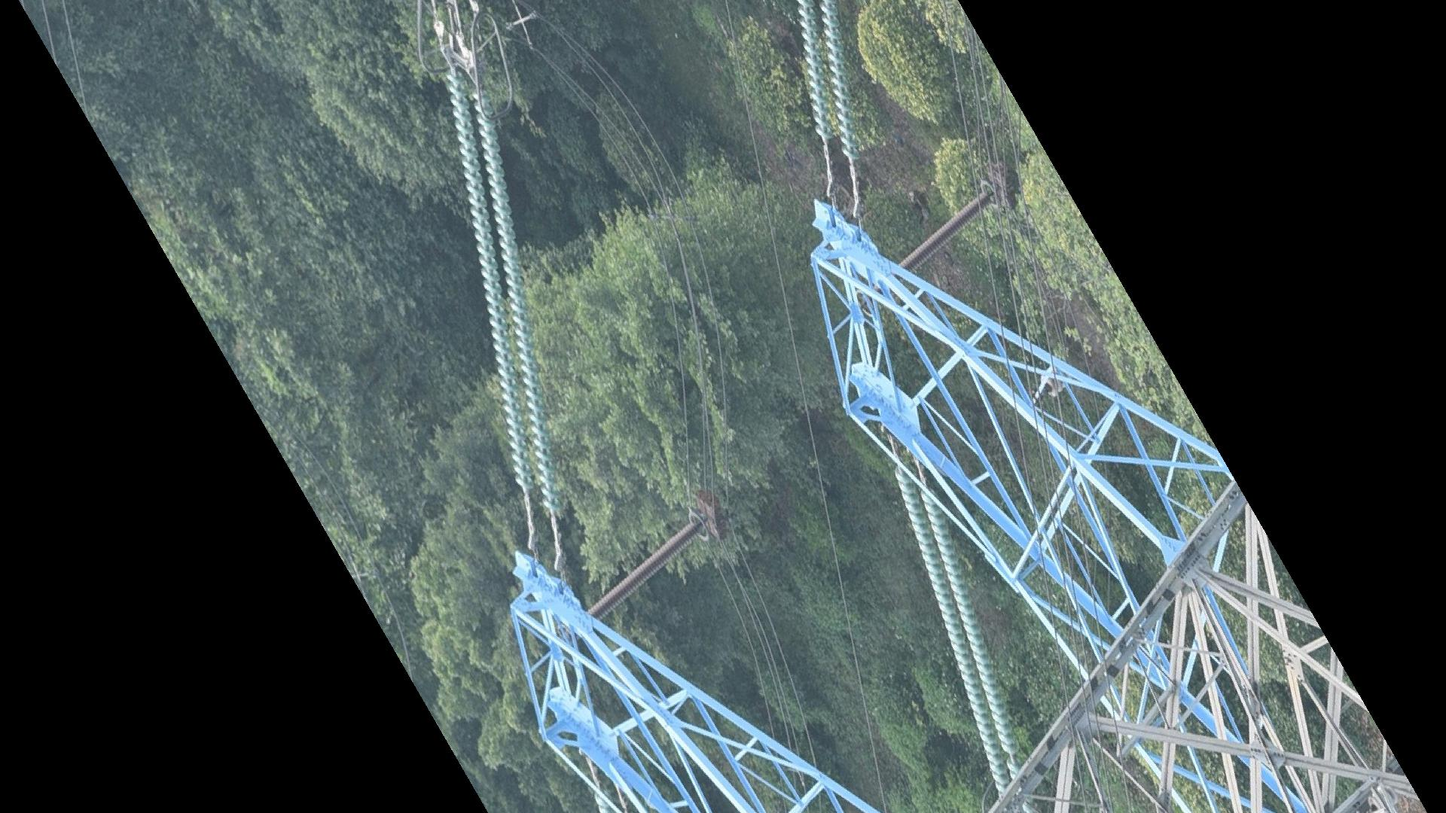insulator: (444, 69, 566, 516), (892, 462, 1029, 794), (585, 519, 703, 617), (794, 1, 863, 163), (896, 189, 992, 273)
insulator_stringdrop: (1001, 740, 1027, 774)
